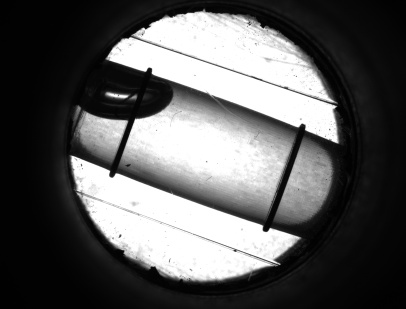line: (262, 145, 303, 211), (109, 124, 136, 158)
